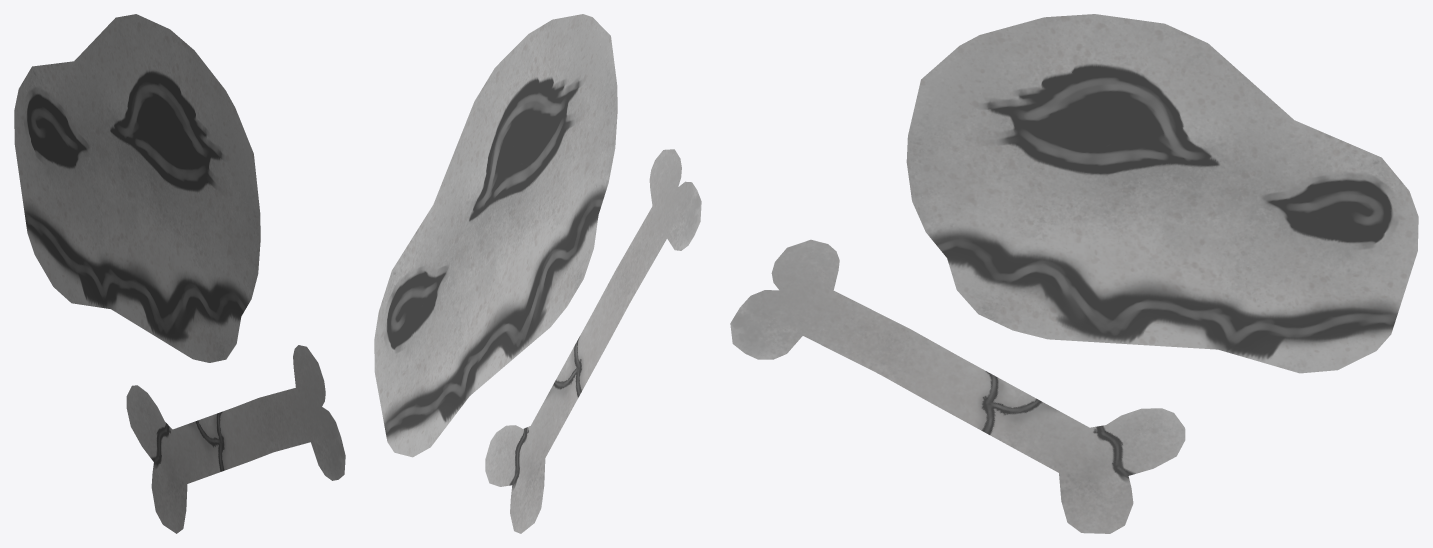
File: SM_Fosil1.fbx
3 views of the same model, side by side, from view 1: azimuth 30°, elevation 25°; view 2: azimuth 150°, elevation 25°; view 3: azimuth 270°, elevation 25° (orthographic). The views are drawn at different scales.
Visible parts, largest first — view 1: SM_Fosil1; view 2: SM_Fosil1; view 3: SM_Fosil1.
Part boxes in pixels (bbox=[...]): SM_Fosil1: bbox=[14, 14, 345, 533]; SM_Fosil1: bbox=[374, 14, 701, 533]; SM_Fosil1: bbox=[730, 14, 1418, 533].
Bounding box in the file's own units: 3.64e-06 × 349 × 418.
